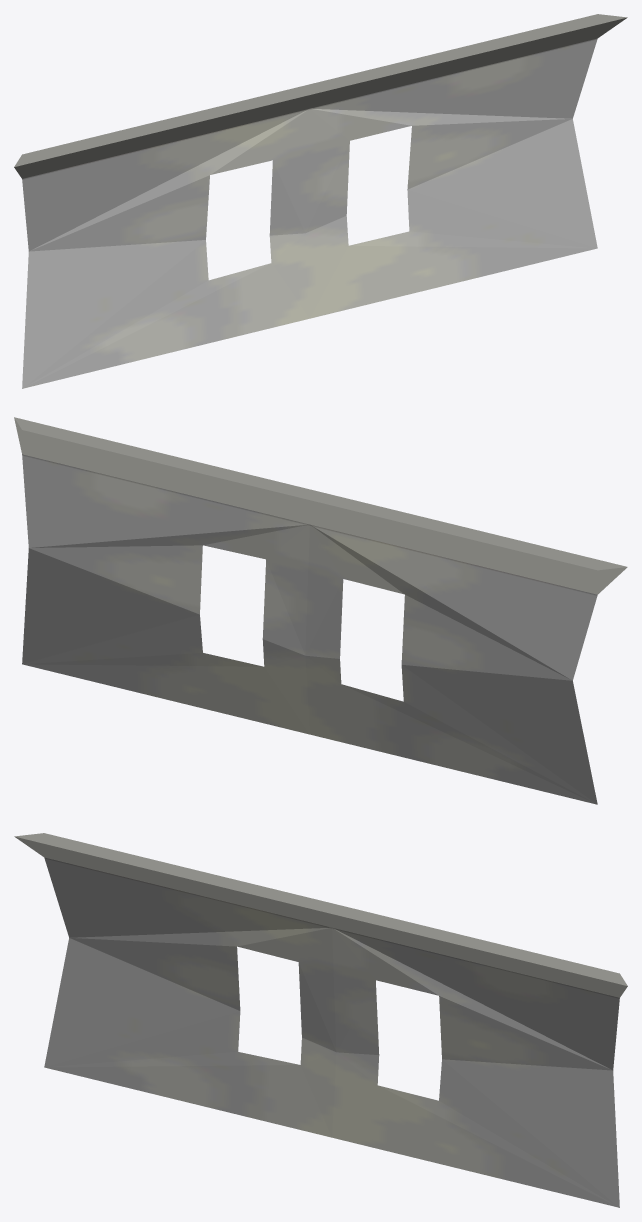
Rendered from W_A1_xffx [GelbeFlecken]_1610.glb.
The picture shows the model from 3 angles, top to bottom: view 1: azimuth 30°, elevation 25°; view 2: azimuth 150°, elevation 25°; view 3: azimuth 330°, elevation 25°; orthographic projection.
Visible parts, largest first — view 1: polySurfaceShape807, polySurfaceShape1019; view 2: polySurfaceShape807, polySurfaceShape1019; view 3: polySurfaceShape807, polySurfaceShape1019.
Part boxes in pixels (x1=…): polySurfaceShape807: x1=22, y1=38, x2=597, y2=388; polySurfaceShape1019: x1=14, y1=14, x2=627, y2=178; polySurfaceShape807: x1=22, y1=454, x2=597, y2=804; polySurfaceShape1019: x1=14, y1=417, x2=627, y2=594; polySurfaceShape807: x1=44, y1=857, x2=619, y2=1207; polySurfaceShape1019: x1=14, y1=833, x2=627, y2=997.
Bounding box in the file's own units: 1.07 × 0.3891 × 0.0607.
2 materials, 2 textured.
